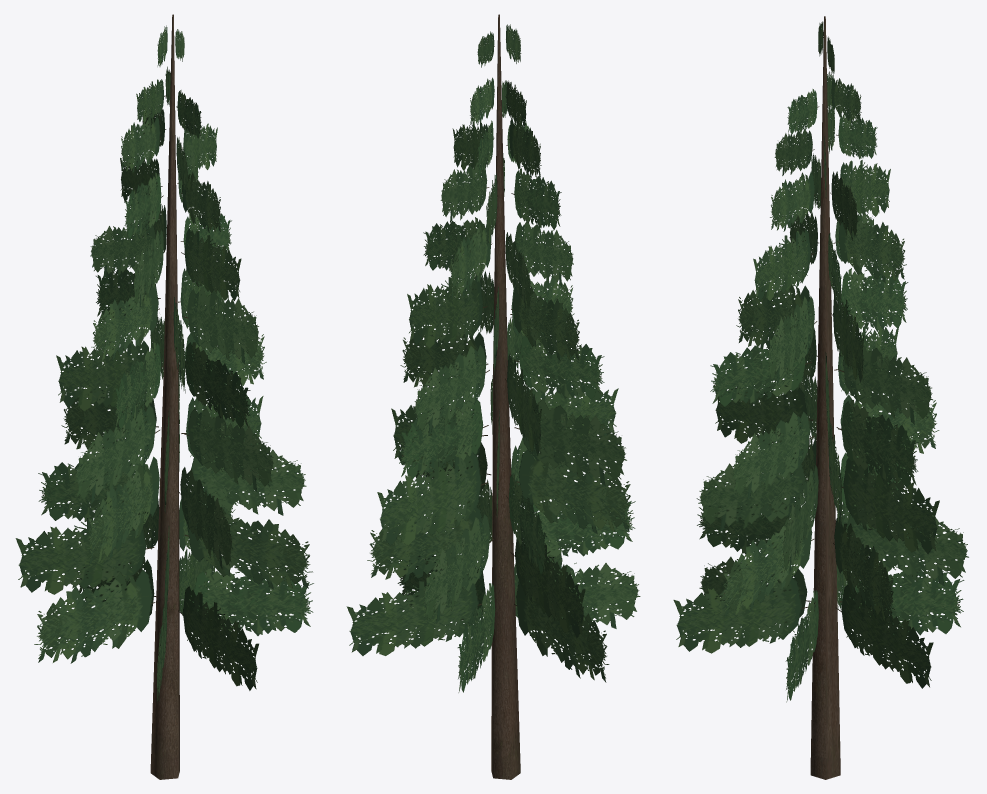
File: pine_tree_002_a_LOD3.gltf
The picture shows the model from 3 angles, left to right: view 1: azimuth 30°, elevation 25°; view 2: azimuth 150°, elevation 25°; view 3: azimuth 270°, elevation 25°; orthographic projection.
Parts seen in each view (by area): view 1: pine_tree_002_a_LOD3; view 2: pine_tree_002_a_LOD3; view 3: pine_tree_002_a_LOD3.
Boxes of the visible parts, <box> form: pine_tree_002_a_LOD3: <box>15,14,313,779</box>; pine_tree_002_a_LOD3: <box>346,14,640,779</box>; pine_tree_002_a_LOD3: <box>673,16,968,779</box>.
Size of the model in its own units: 7.85 by 22.64 by 8.12.
Materials: 2 (2 with a texture image).
